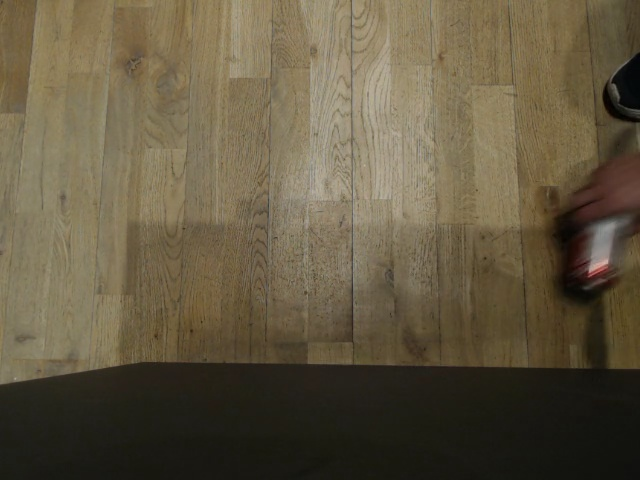cola: (559, 215, 626, 300)
